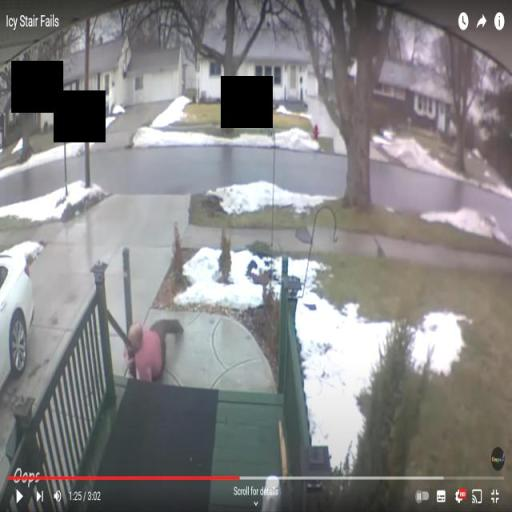Fall: (122, 312, 186, 386)
